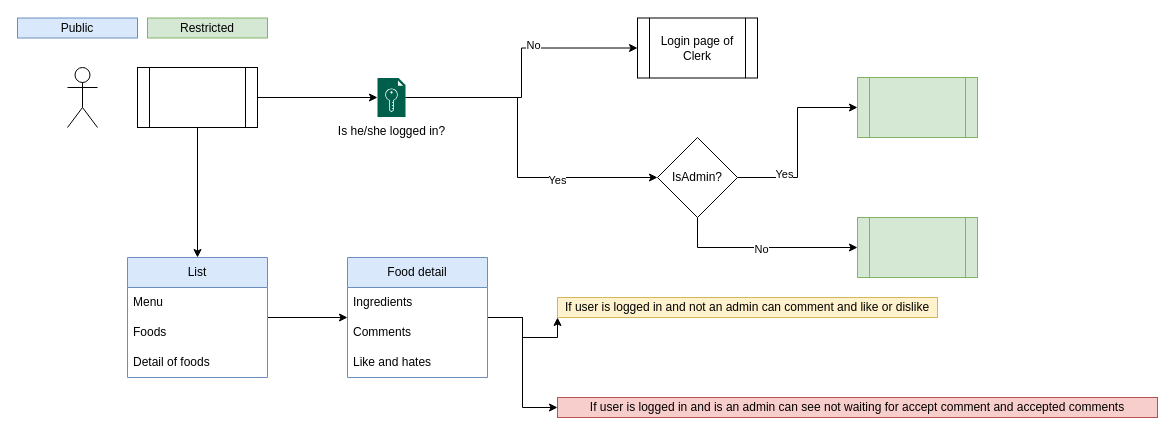
Image size: 1175x435. Some labels were removed from this diagram. Here are the shapes that lost their labels. From the top down, the centre of each, then its label:
point (82, 97): User
point (197, 97): Home /
point (917, 107): admin-dashboard
point (917, 247): user-dashboard
